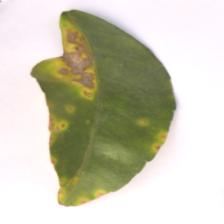canker: (42, 32, 140, 155)
